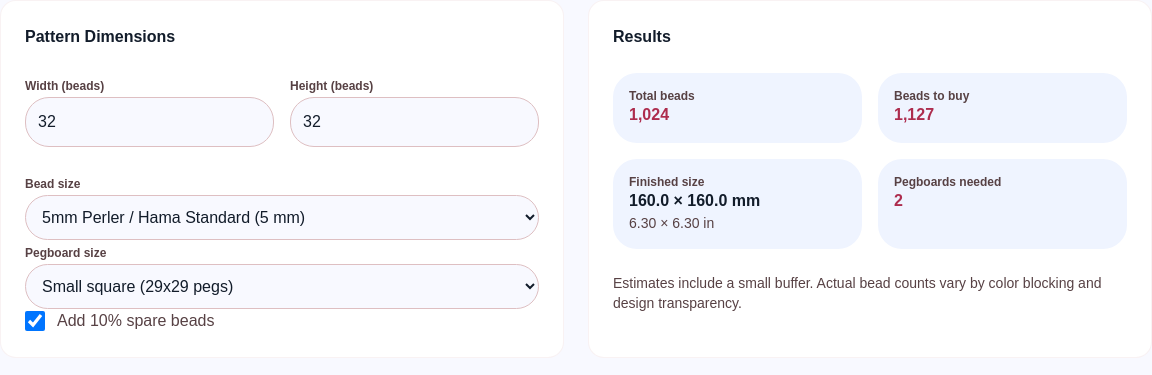
Test: BeadCalculator › updates results when width or height changes
Replace the text in the number field labelled "Width (beads)" with "10" at (150, 122), box [25,97,274,147]
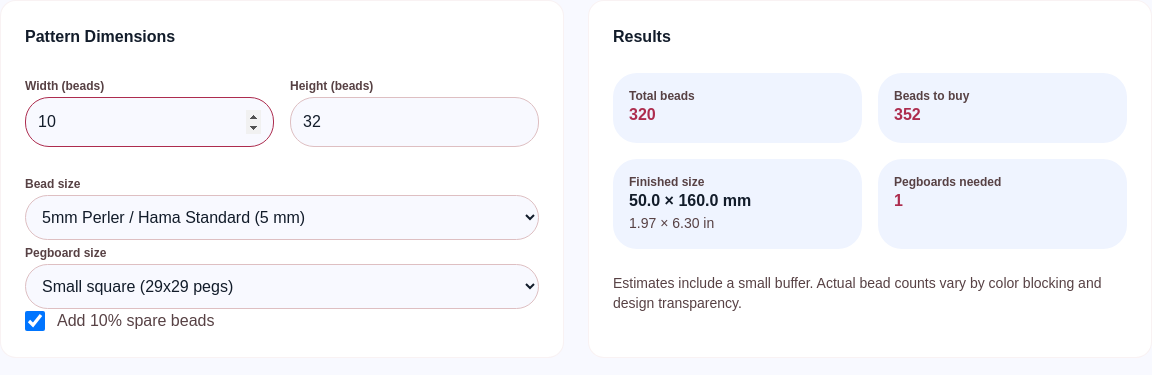
Expected: the text "320" is shown, [629,106,656,123]
